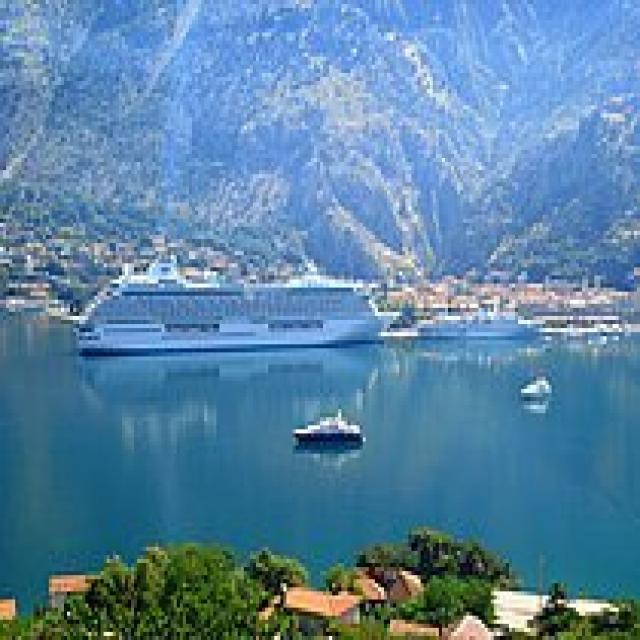Ship: (50, 228, 413, 366)
